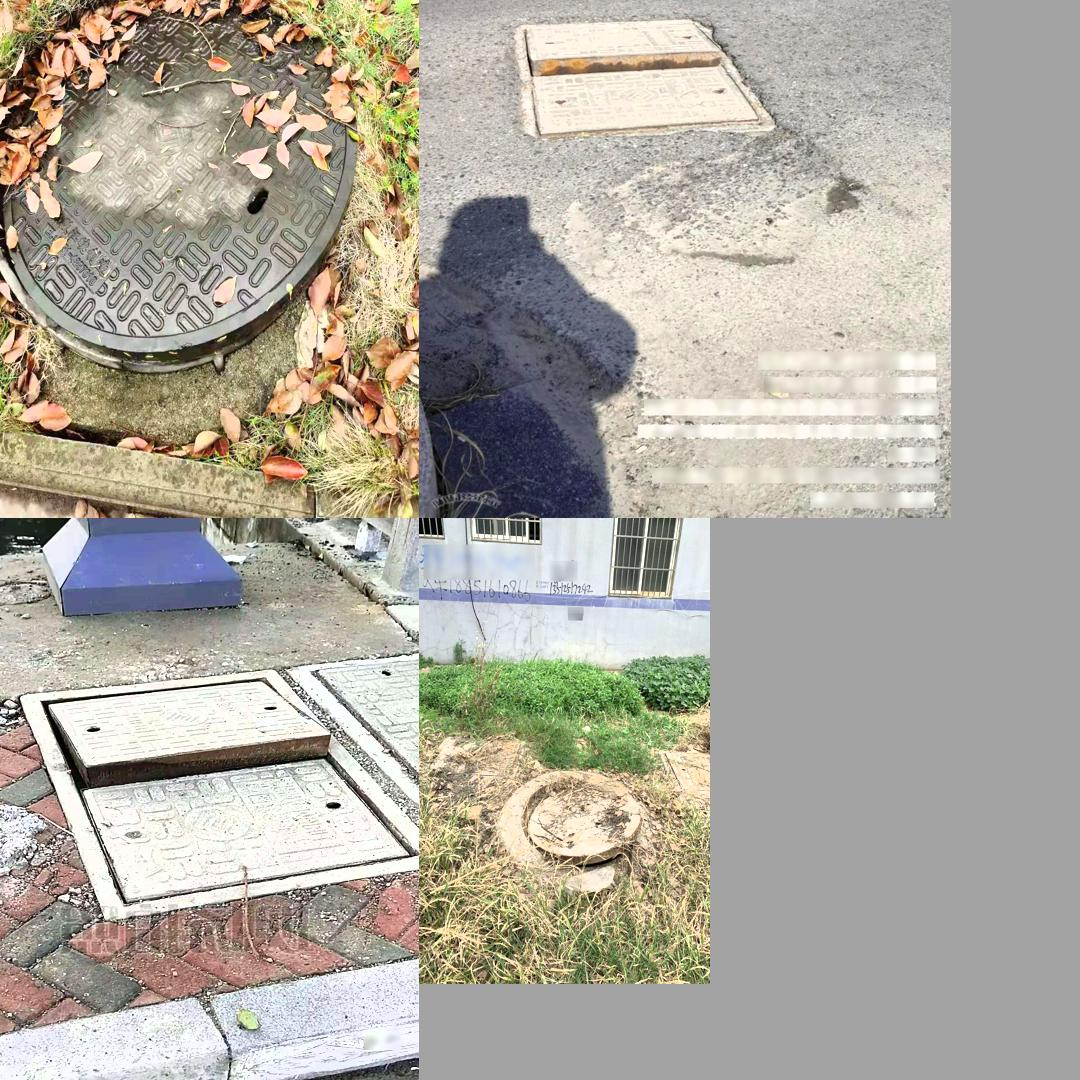uncovered: (0, 0, 356, 372), (46, 659, 355, 911), (510, 18, 773, 140), (521, 778, 641, 863)
